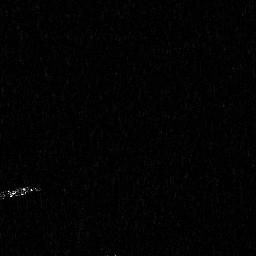ship: (1, 184, 42, 201)
